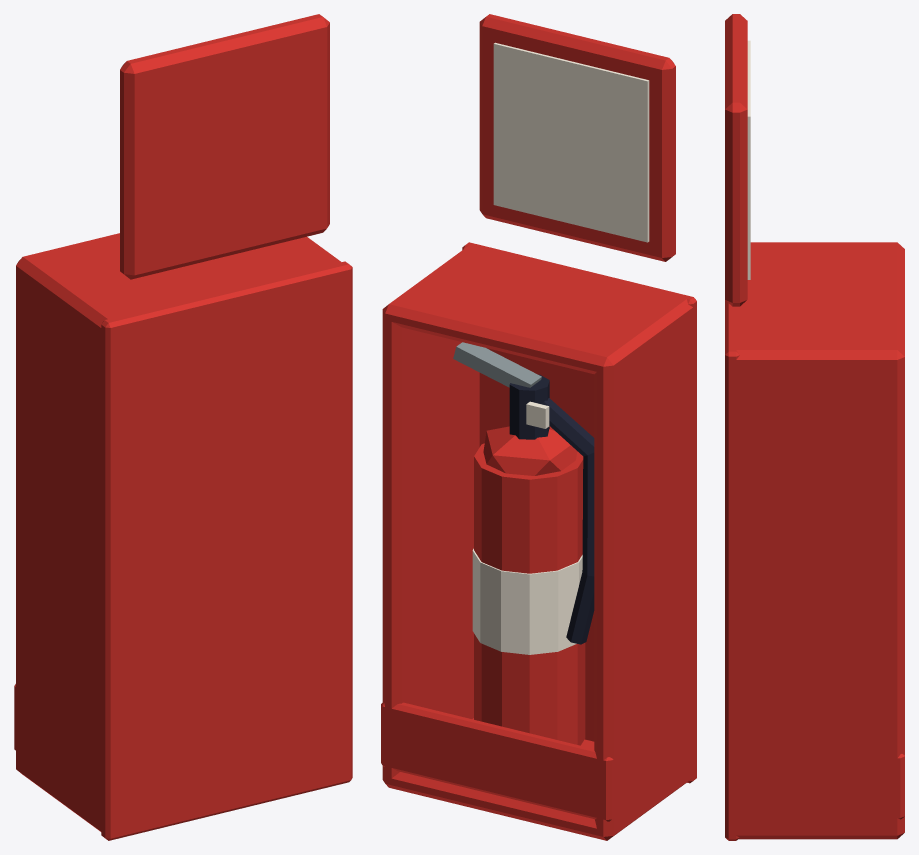
The model's file is sm_env_depot_extinguisher_cabinet.glb.
3 views of the same model, side by side, from view 1: azimuth 30°, elevation 25°; view 2: azimuth 150°, elevation 25°; view 3: azimuth 270°, elevation 25° (orthographic). The views are drawn at different scales.
Parts seen in each view (by area): view 1: CabBack, CabSide, NumberPlate, CabTop, CabBottom; view 2: CabSide, CabSide.001, NumberFace, CabTop, ExtBody, CabLip, NumberPlate, ExtLabel, CabBack, CabBottom, ExtHose, ExtDome (+2 smaller); view 3: CabSide.001, CabTop, NumberPlate, CabBack, NumberFace, CabLip.
Part boxes in pixels (x1,y1,x2,y2): CabBack: [101, 261, 352, 840]; CabSide: [16, 257, 120, 831]; NumberPlate: [120, 14, 329, 279]; CabTop: [16, 233, 345, 334]; CabBottom: [16, 762, 347, 832]; CabSide: [594, 307, 694, 840]; CabSide.001: [382, 282, 479, 788]; NumberFace: [493, 42, 649, 242]; CabTop: [382, 244, 694, 374]; ExtBody: [474, 443, 585, 745]; CabLip: [381, 702, 613, 821]; NumberPlate: [479, 14, 675, 261]; ExtLabel: [472, 548, 582, 654]; CabBack: [462, 242, 696, 783]; CabBottom: [382, 718, 694, 839]; ExtHose: [542, 398, 594, 644]; ExtDome: [483, 426, 577, 475]; CabSide.001: [732, 347, 904, 839]; CabTop: [732, 242, 904, 366]; NumberPlate: [725, 14, 747, 306]; CabBack: [725, 300, 739, 840]; NumberFace: [747, 40, 750, 279]; CabLip: [897, 754, 904, 819].
Bounding box in the file's own units: 0.36 × 1.07 × 0.24.
